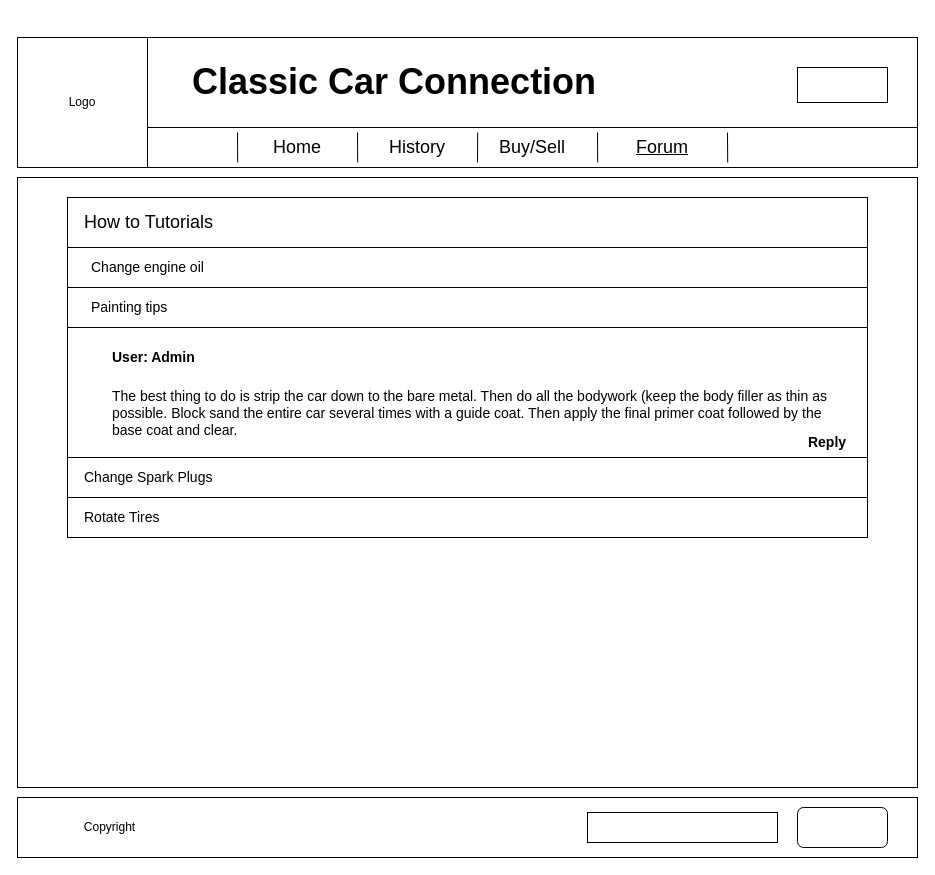
Some shapes in this 935 by 875 pixel diagram are drawn without their labels. Each missing label, with the centre of its shape:
EMAIL:: point (682, 827)
Log-in: point (842, 84)
Sign up: point (842, 827)
